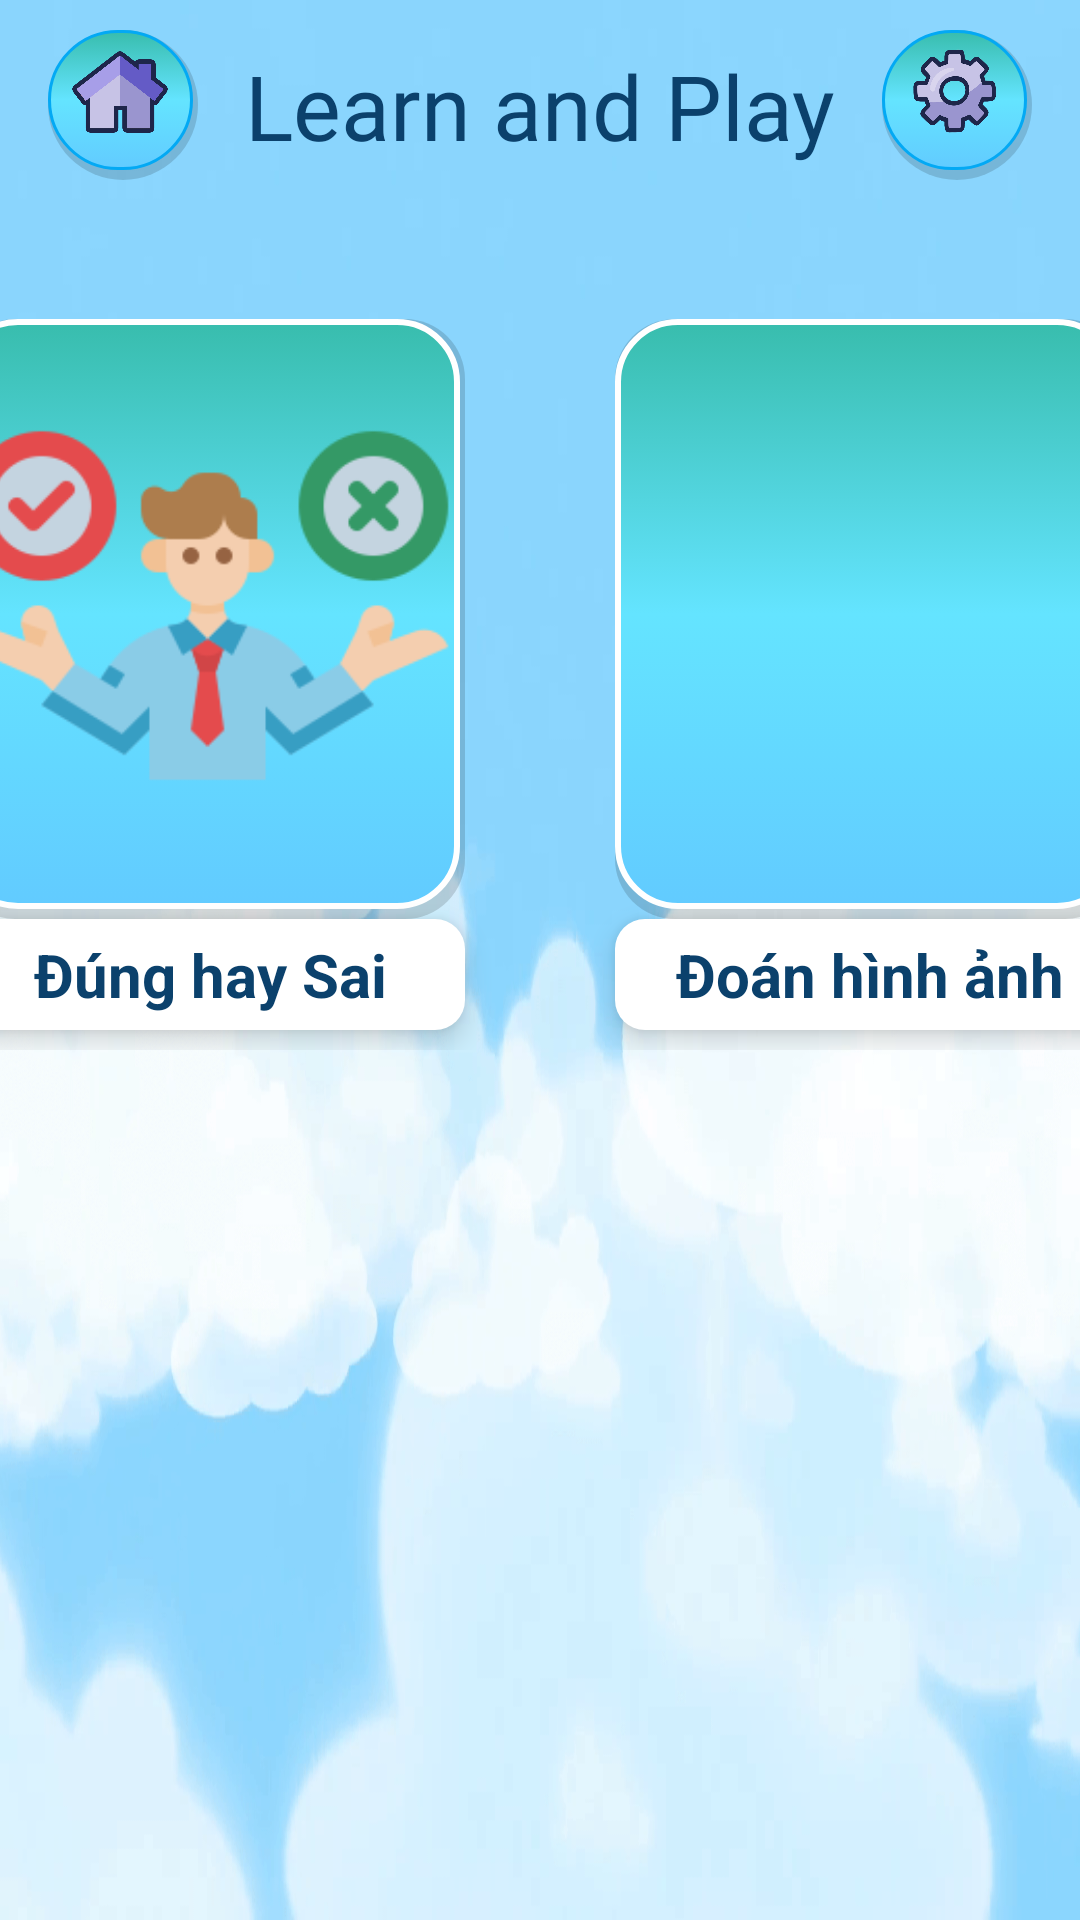

Icon click points for this 1080*1920 phone screenshot, format (x,y):
home: (123,105)
setting: (957,105)
